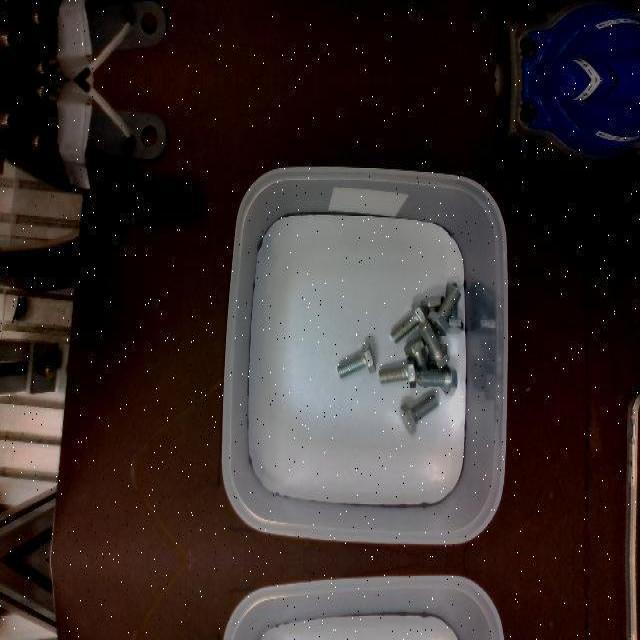screw: (427, 285, 461, 335), (400, 393, 439, 435), (417, 319, 449, 369), (337, 341, 376, 379), (417, 363, 458, 395), (378, 356, 416, 388)
